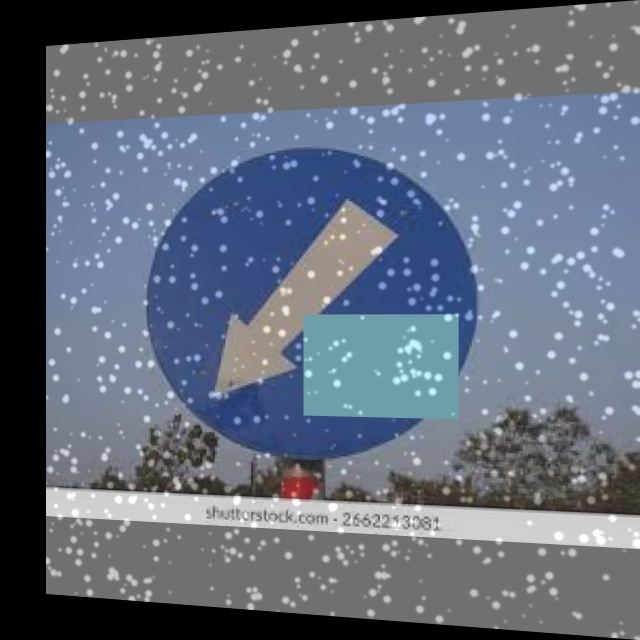Compulsory_Keep_Left: (148, 144, 467, 451)
